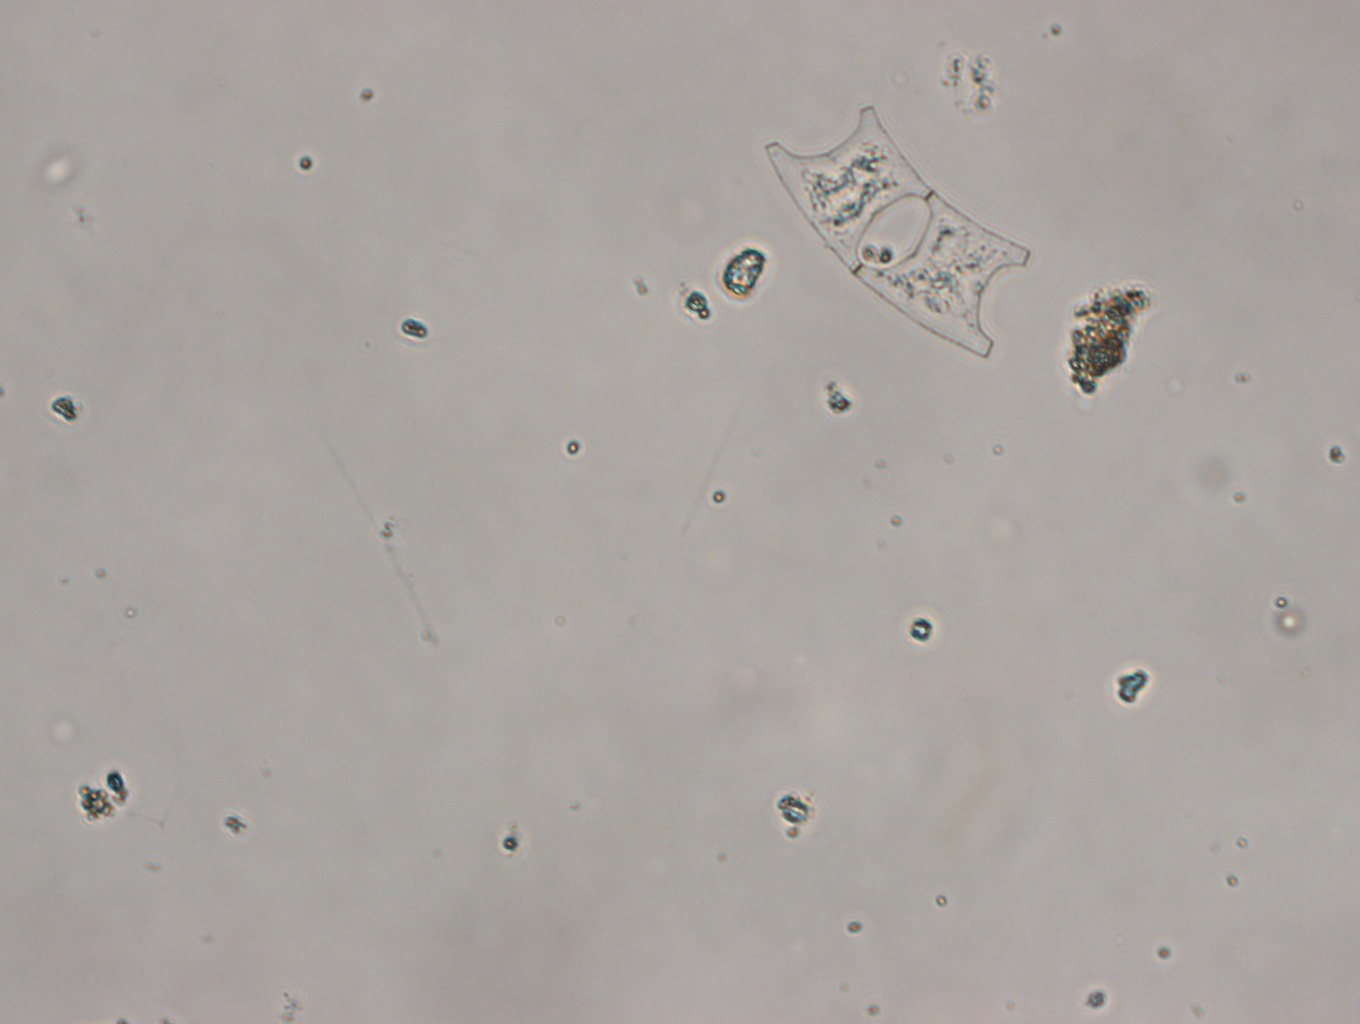eucampia: (767, 101, 1031, 367)
